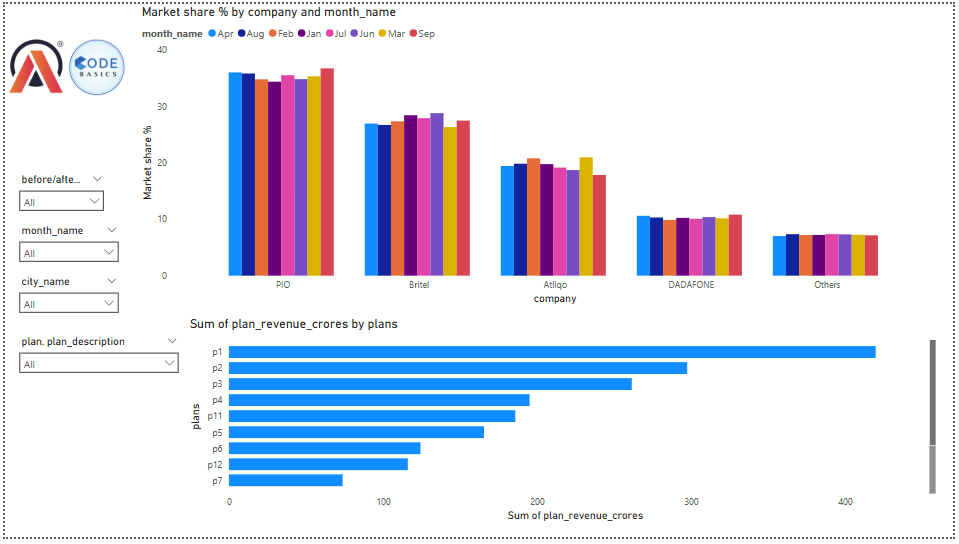

The page's visual inventory and layout, read from the dashboard file:
{"tool":"powerbi","page":{"name":"Overview of plan revenue and market share","canvas":[1280,720],"ordinal":2},"visuals":[{"type":"clusteredColumnChart","fields":{"Y":["fact_market_share.Market share %"],"Category":["fact_market_share.company"],"Series":["dim_date.month_name"]},"box":[179.9,0,1083.5,410.5],"z":0},{"type":"clusteredBarChart","fields":{"Category":["fact_plan_revenue.plans"],"Y":["Sum(fact_plan_revenue.plan_revenue_crores)"]},"box":[179.9,421.2,1075.7,262.6],"z":1000},{"type":"slicer","fields":{"Values":["dim_date.before/after_5g"]},"box":[9.7,223.7,134.2,87.5],"z":2000},{"type":"slicer","fields":{"Values":["dim_date.month_name"]},"box":[9.7,292.8,153.7,58.4],"z":3000},{"type":"slicer","fields":{"Values":["dim_cities.city_name"]},"box":[9.7,362.8,153.7,58.4],"z":4000},{"type":"image","box":[0,40.4,86.2,86.2],"z":5000},{"type":"image","box":[58.4,40.4,132.9,89.8],"z":6000}]}

Visuals, with their boxes in screenshot pixels (x1, y1, x2, y2), scaled from the page's 1280x720 canvas onto the 959x544 screenshot:
clusteredColumnChart - fact_market_share.Market share % x fact_market_share.company: [135, 0, 947, 310]
clusteredBarChart - fact_plan_revenue.plans x Sum(fact_plan_revenue.plan_revenue_crores): [135, 318, 941, 517]
slicer - dim_date.before/after_5g: [7, 169, 108, 235]
slicer - dim_date.month_name: [7, 221, 122, 265]
slicer - dim_cities.city_name: [7, 274, 122, 318]
image: [0, 31, 65, 96]
image: [44, 31, 143, 98]
